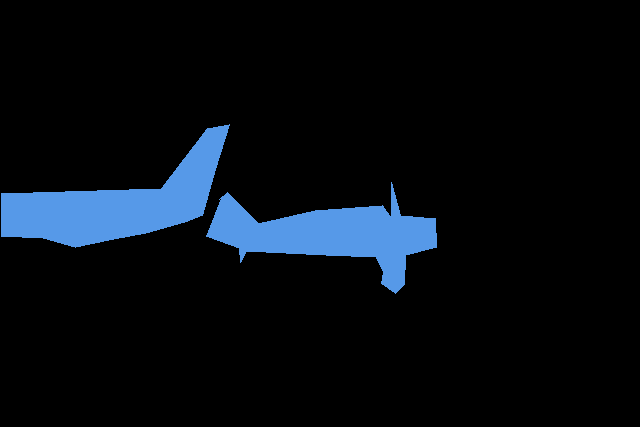Airplane: (1, 124, 229, 248), (206, 182, 436, 294)
